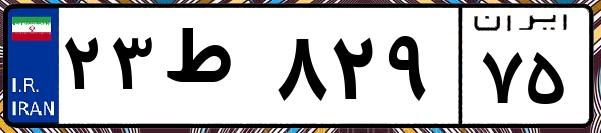2: (330, 28, 385, 110), (57, 26, 110, 100)
3: (110, 28, 158, 98)
5: (525, 38, 570, 115)
7: (475, 38, 525, 113)
8: (270, 28, 330, 110)
9: (385, 28, 445, 110)
ط: (158, 20, 270, 120)
